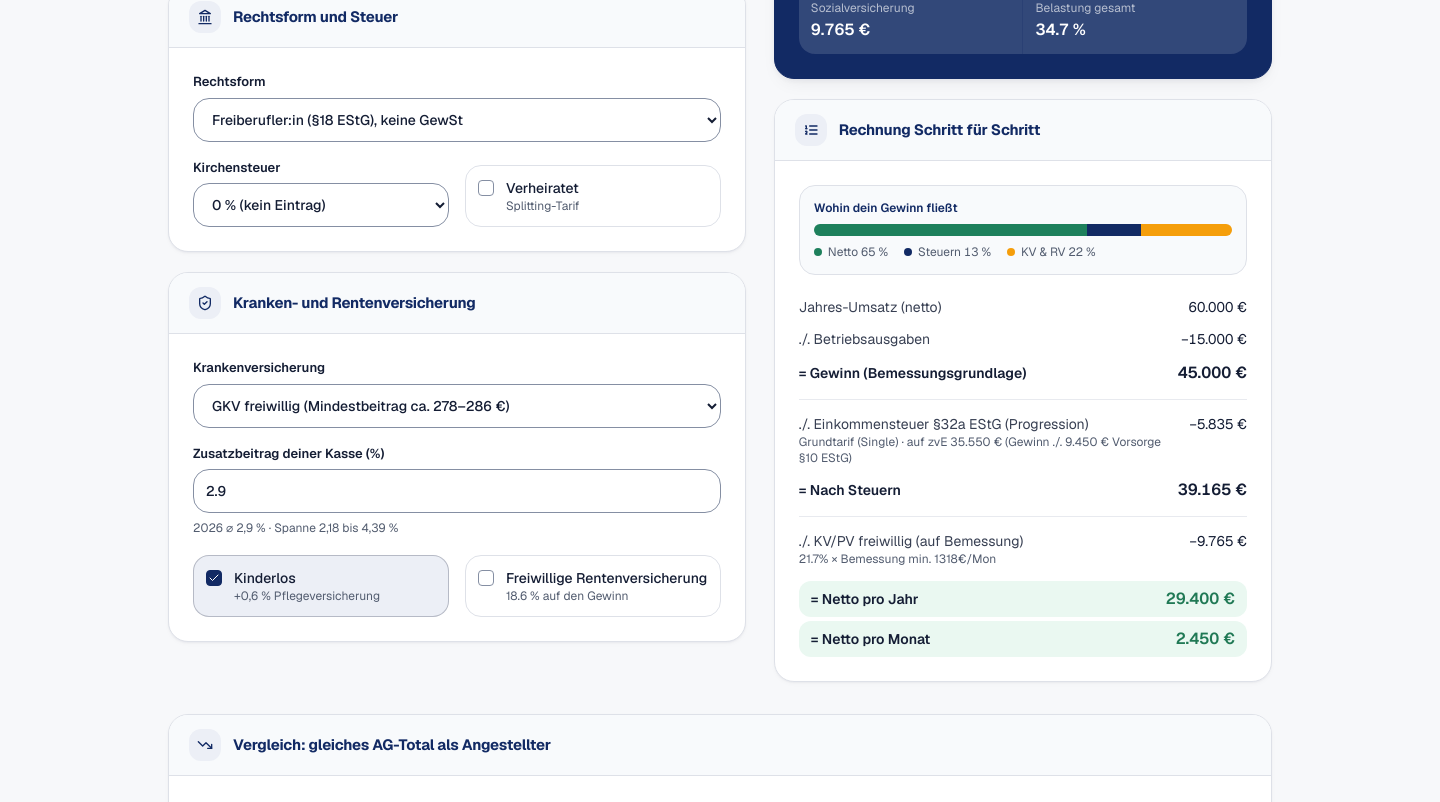
Test: BruttoNettoSolo — KV-Varianten › Wechsel zu PKV zeigt PKV-Beitrag-Input
This screenshot has width=1440, height=802.
(page scrolled)
Select "PKV (eigener Beitrag)" in the dropdown labelled "Krankenversicherung" at (457, 406), box [193,384,721,428]
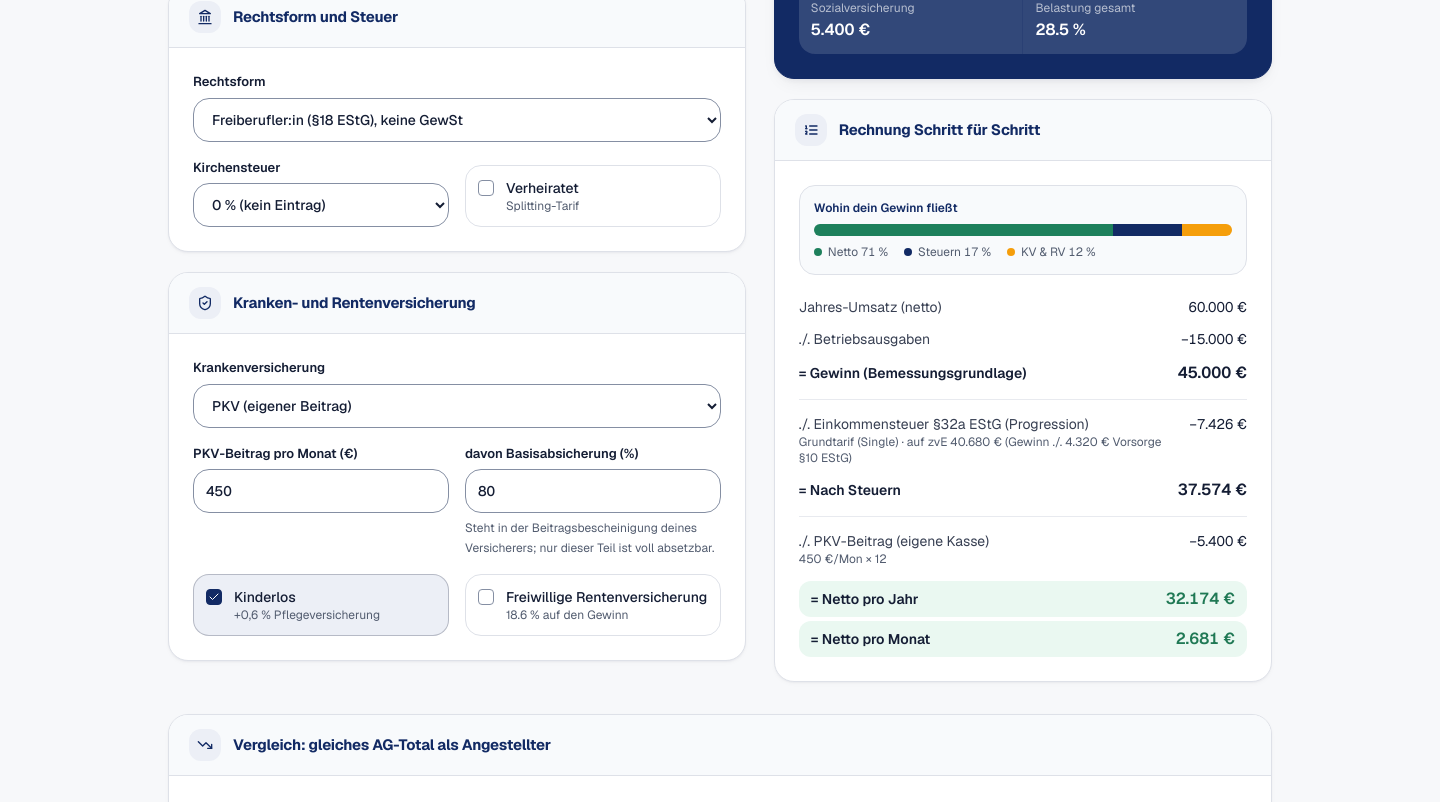
Expected: the text "PKV-Beitrag pro Monat (€)" is shown, [193,445,357,462]
